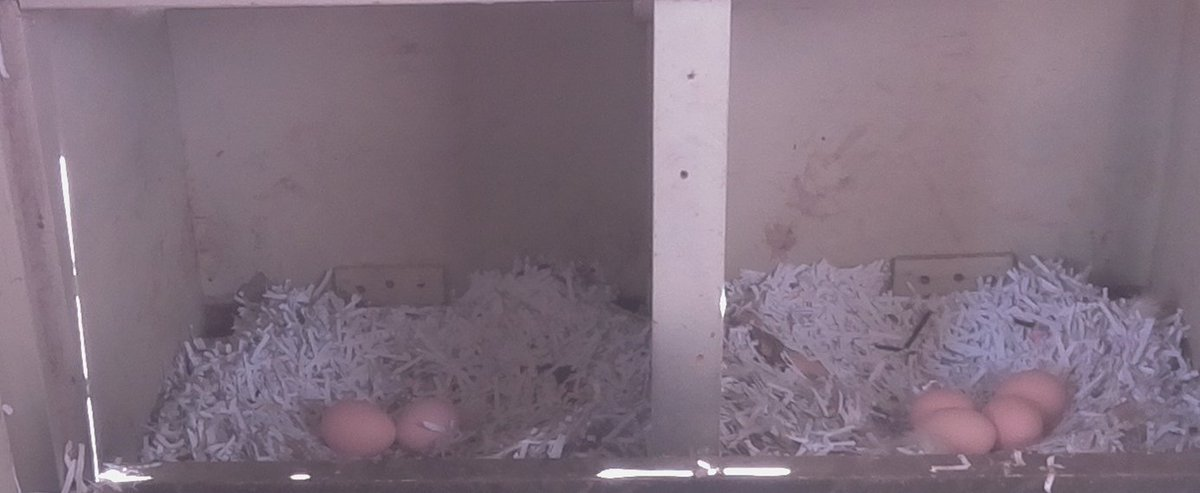egg: (984, 367, 1072, 436), (316, 397, 401, 462), (905, 405, 1001, 456), (387, 396, 468, 456), (977, 396, 1052, 454), (905, 384, 978, 422)
